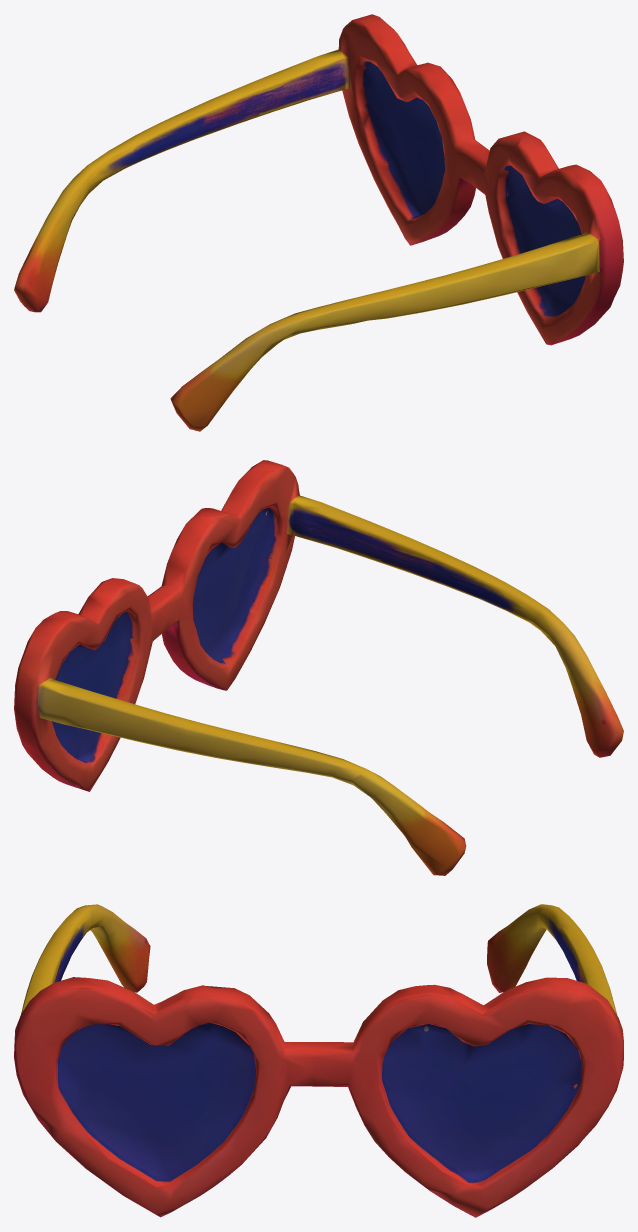
File: prop_glasses-heart_89e675.glb
3 renders of one model, top to bottom at view 1: azimuth 30°, elevation 25°; view 2: azimuth 150°, elevation 25°; view 3: azimuth 270°, elevation 25°, orthographic. The views are drawn at different scales.
Visible parts, largest first — view 1: tripo_node_edc2b7ae-43da-44b6-9c72-a8bcf9bd6b00; view 2: tripo_node_edc2b7ae-43da-44b6-9c72-a8bcf9bd6b00; view 3: tripo_node_edc2b7ae-43da-44b6-9c72-a8bcf9bd6b00.
Boxes of the visible parts, x1,y1,x2,y2 form: tripo_node_edc2b7ae-43da-44b6-9c72-a8bcf9bd6b00: (14,14,623,431); tripo_node_edc2b7ae-43da-44b6-9c72-a8bcf9bd6b00: (14,460,623,875); tripo_node_edc2b7ae-43da-44b6-9c72-a8bcf9bd6b00: (14,904,623,1217).
Size of the model in its own units: 0.8777 by 0.4118 by 0.9992.
Materials: 1 (1 with a texture image).
